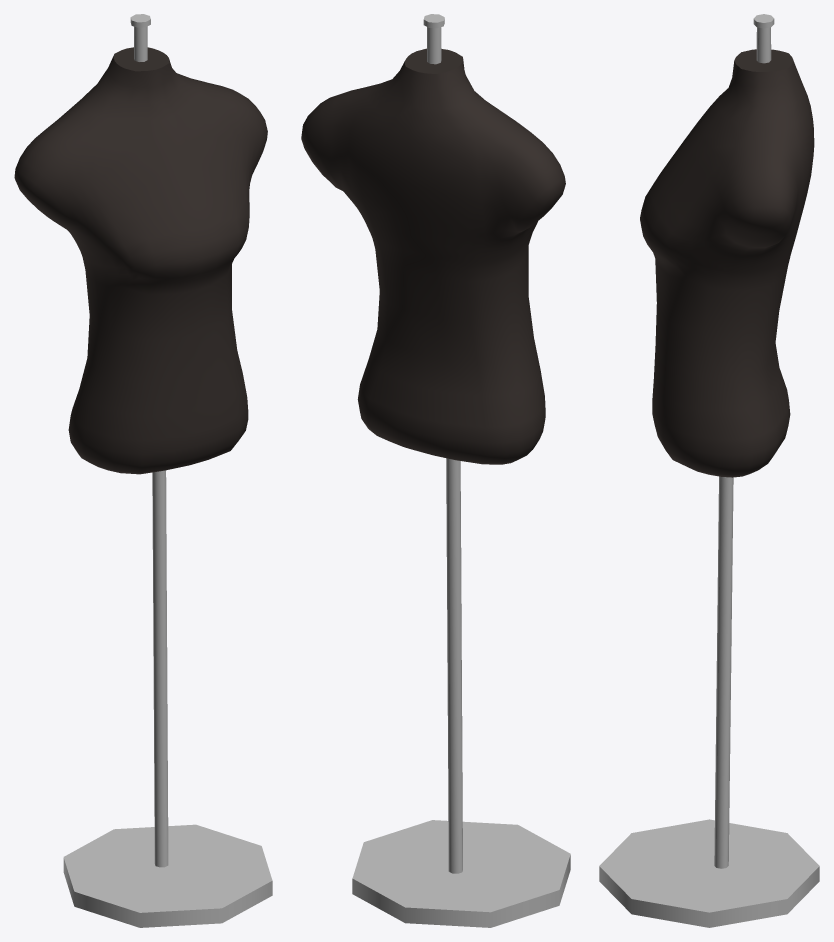
The model's file is mannequin-f-1.fbx.
The picture shows the model from 3 angles, left to right: view 1: azimuth 30°, elevation 25°; view 2: azimuth 150°, elevation 25°; view 3: azimuth 270°, elevation 25°; orthographic projection. The views are drawn at different scales.
Visible parts, largest first — view 1: mannequin-f-1; view 2: mannequin-f-1; view 3: mannequin-f-1.
Part boxes in pixels (x1=…): mannequin-f-1: x1=14, y1=14, x2=272, y2=927; mannequin-f-1: x1=301, y1=14, x2=570, y2=927; mannequin-f-1: x1=599, y1=14, x2=819, y2=927.
Size of the model in its own units: 56.92 by 190 by 43.93.
Materials: 2 (2 with a texture image).
